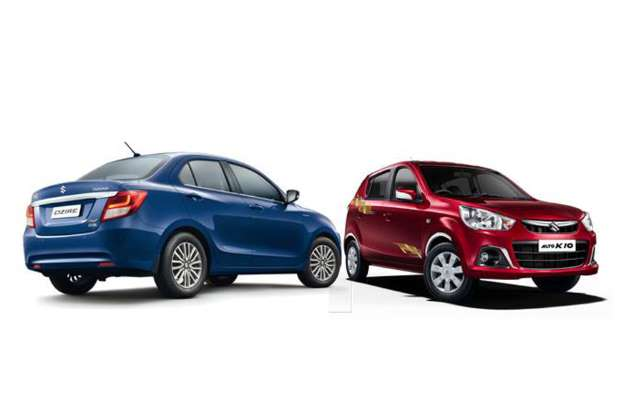car: (25, 151, 343, 296), (344, 146, 602, 298)
